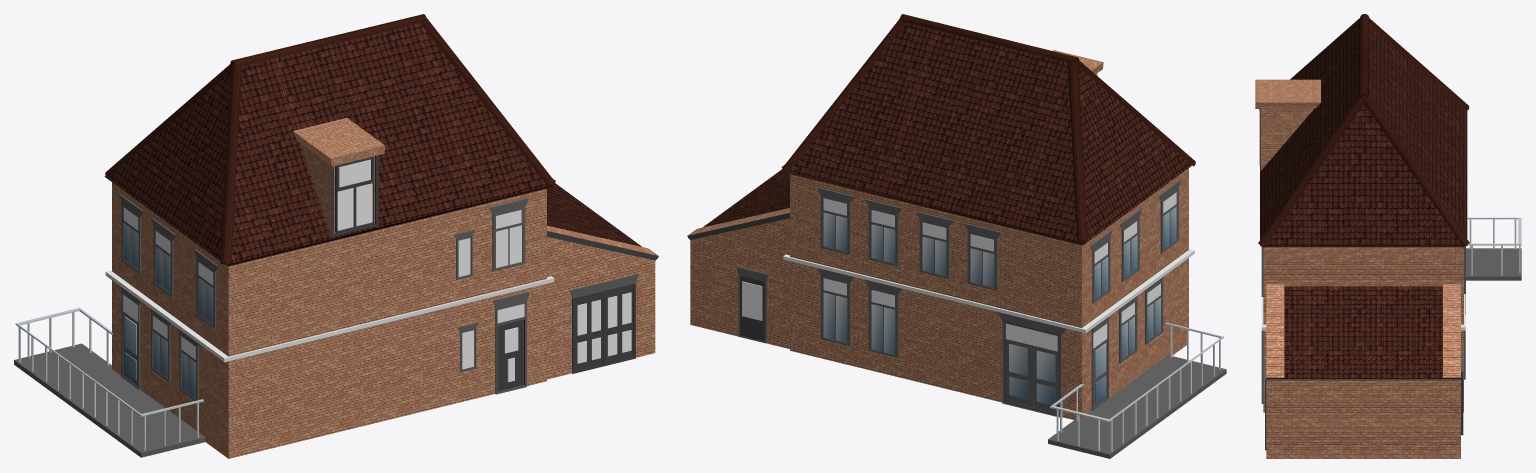
The model's file is Uleboerd 1 en Buthus 18.fbx.
3 renders of one model, left to right at view 1: azimuth 30°, elevation 25°; view 2: azimuth 150°, elevation 25°; view 3: azimuth 270°, elevation 25°, orthographic. The views are drawn at different scales.
Visible parts, largest first — view 1: Uleboerd_1_en_Buthus_18; view 2: Uleboerd_1_en_Buthus_18; view 3: Uleboerd_1_en_Buthus_18.
Part boxes in pixels (x1,y1,x2,y2): Uleboerd_1_en_Buthus_18: (14, 14, 658, 458); Uleboerd_1_en_Buthus_18: (687, 14, 1226, 458); Uleboerd_1_en_Buthus_18: (1255, 14, 1521, 458).
Bounding box in the file's own units: 16.06 × 10.5 × 8.68.
